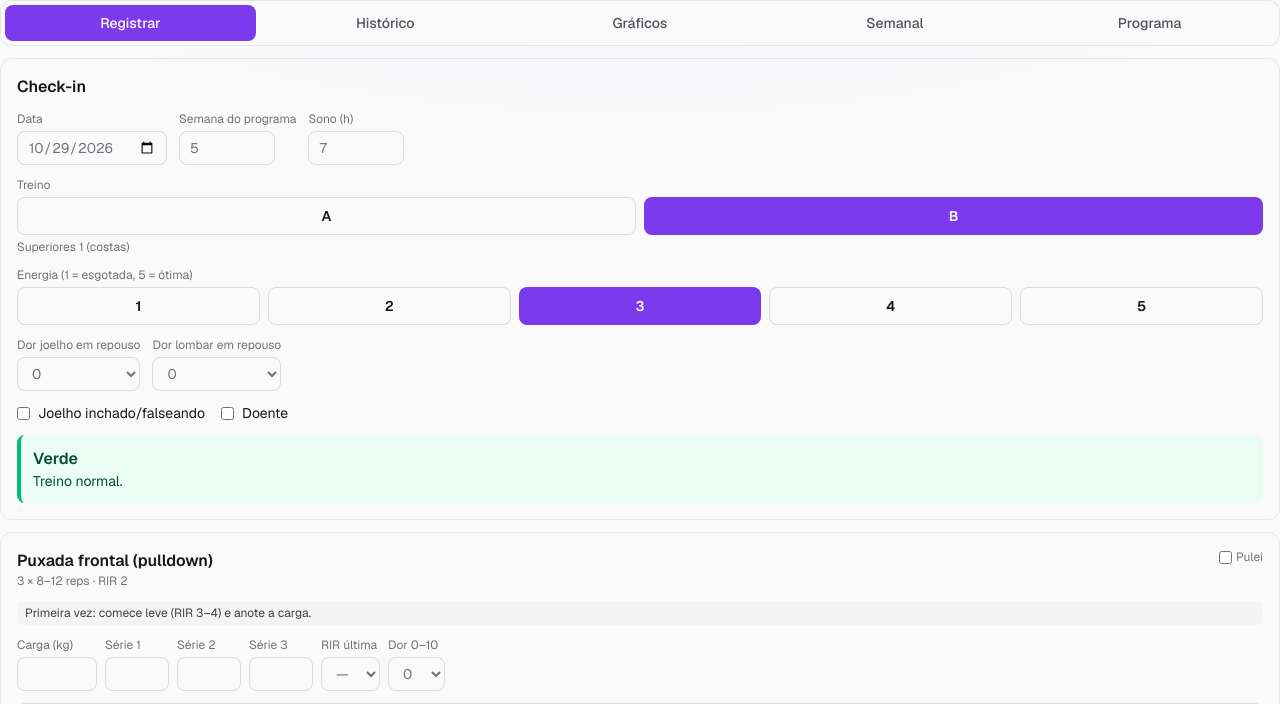
Scenario: TreinosWorkspace › histórico mostra o treino salvo com o nome guardado do exercício
Click the tab "Histórico": (385, 23) [260, 5, 511, 41]
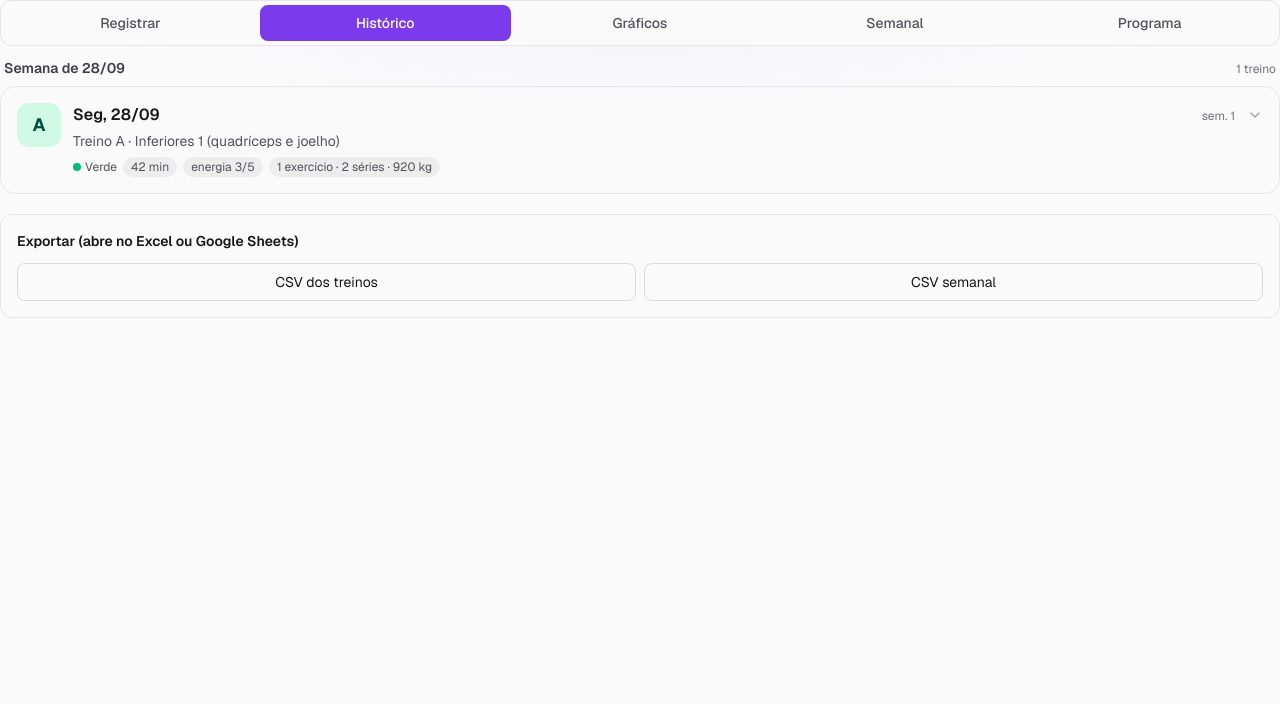
Check: the text "Treino A · Inferiores 1 (quadríceps e joelho)" is shown, box [73, 132, 340, 150]
Check: the text "1 exercício · 2 séries · 920 kg" is shown, box [269, 157, 440, 177]
Click the button "Seg, 28/09": (39, 125) [1, 87, 1279, 193]
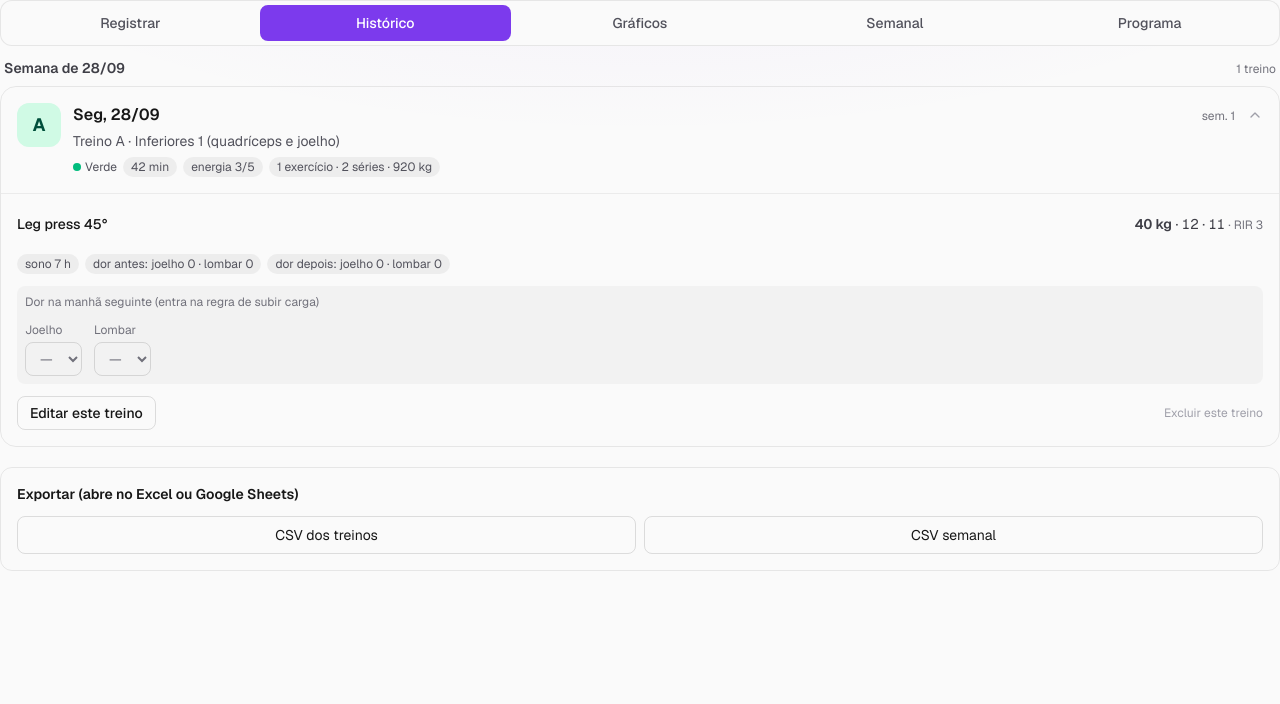
Check: the text "Leg press 45°" is shown, box [17, 214, 108, 234]
Check: the text "40 kg" is shown, box [1135, 215, 1172, 233]
